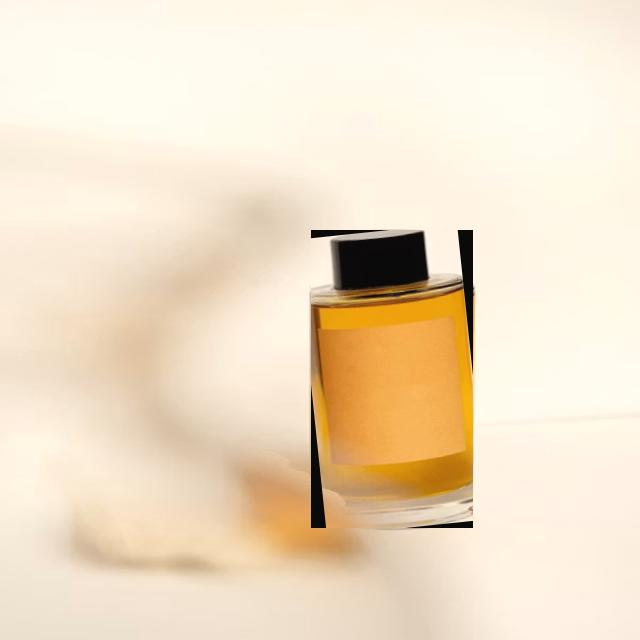Bottle: (312, 231, 473, 527)
